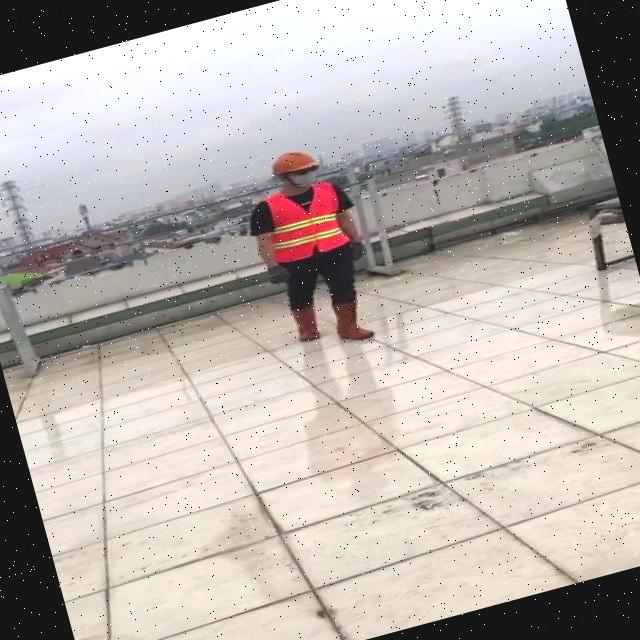boots: (330, 294, 374, 344), (288, 302, 323, 344)
